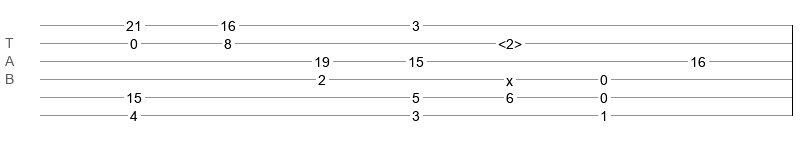0: (130, 36, 138, 46), (600, 90, 608, 100), (600, 72, 608, 82)
1: (600, 108, 608, 118)
15: (126, 90, 142, 100), (408, 54, 424, 64)
16: (220, 18, 236, 28), (690, 54, 706, 64)
19: (314, 54, 330, 64)
2: (318, 72, 326, 82)
21: (126, 18, 142, 28)
3: (412, 108, 420, 118), (412, 18, 420, 28)
4: (130, 108, 138, 118)
5: (412, 90, 420, 100)
6: (506, 90, 514, 100)
8: (224, 36, 232, 46)
harmonic: (498, 36, 522, 46)
x: (506, 73, 513, 81)
